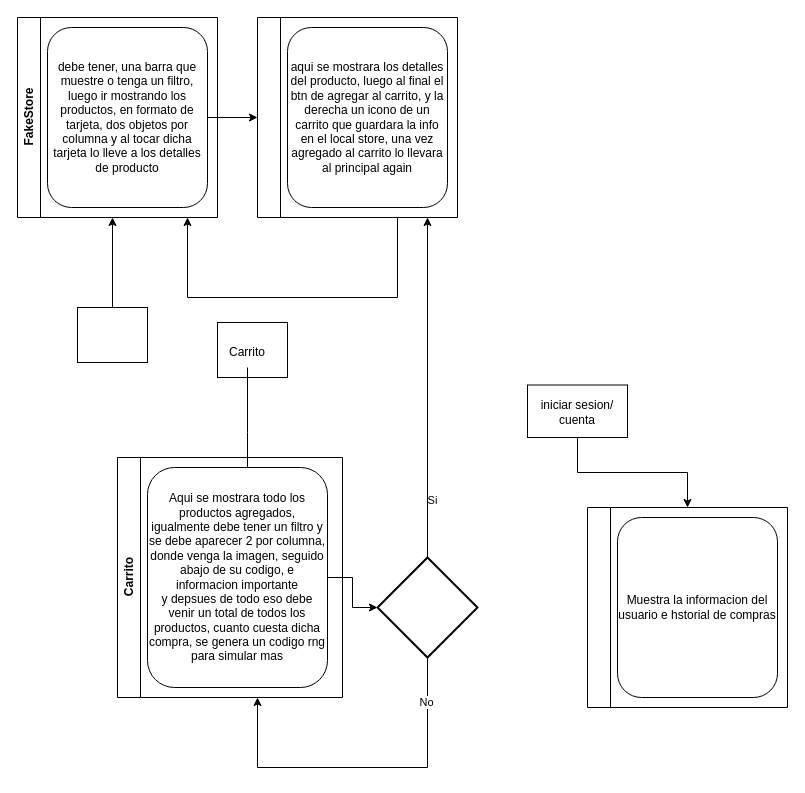
The diagram is 805 pixels wide and 793 high, and some of its shapes have lost their labels. The shapes that lost their labels are listed below. From the top down, each one's box as (x1, y1, x2, y2) in pixels, then its label:
(256, 16, 458, 218): Detalle_prod
(76, 306, 148, 362): productos
(376, 556, 478, 658): Si presiona la tarjeta
(586, 506, 788, 708): Cuenta
